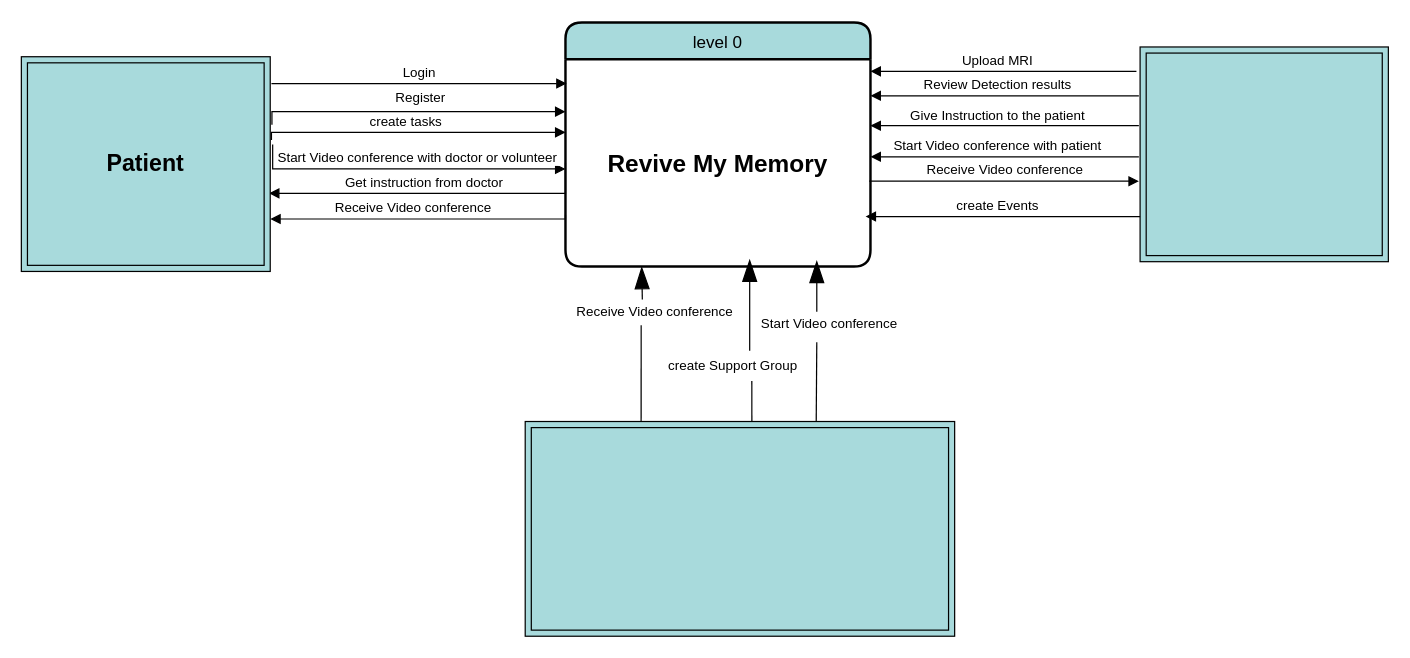
This 1410x658 diagram has some shape labels left out. Here are the shapes that lost their labels. From the top down, the centre of each, then its label:
At (x=1263, y=154): "Doctor".
At (x=739, y=528): "Volunteer".
